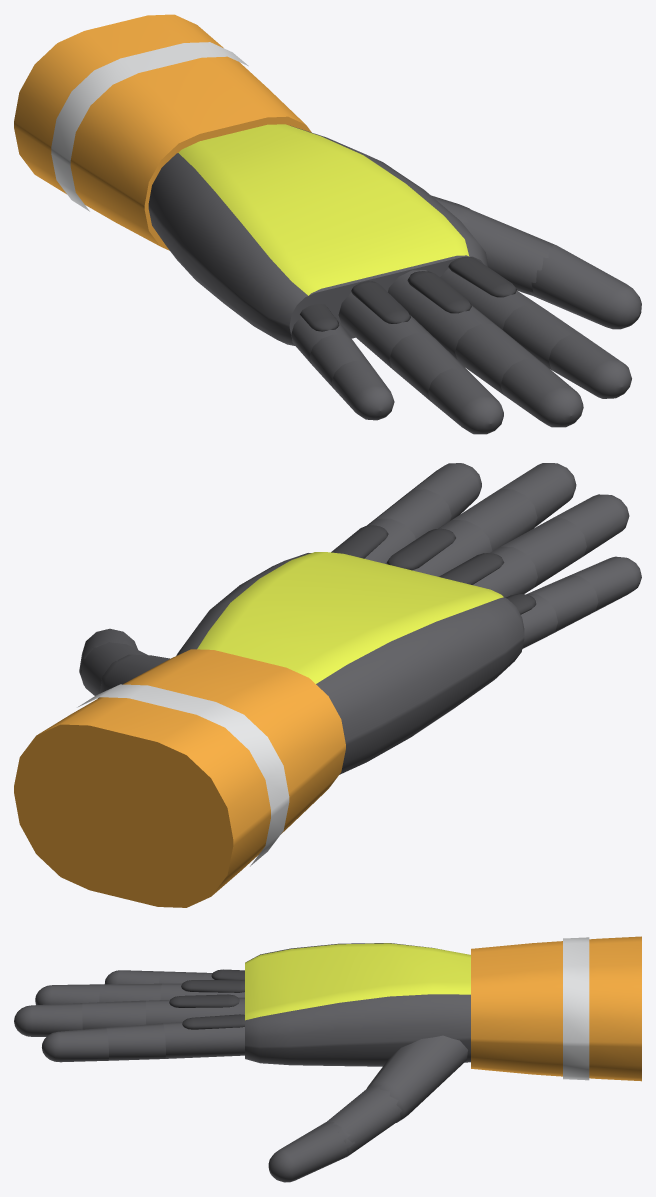
File: Hand_R.glb
The picture shows the model from 3 angles, top to bottom: view 1: azimuth 30°, elevation 25°; view 2: azimuth 150°, elevation 25°; view 3: azimuth 270°, elevation 25°; orthographic projection. The views are drawn at different scales.
Parts seen in each view (by area): view 1: Palm, Cuff, Thumb3, Middle1, Ring1, Thumb2, Middle3, Index3, Ring3, Index1, Middle2, Ring2 (+4 smaller); view 2: Cuff, Palm, Middle1, Ring1, Ring2, Middle2, Middle3, Ring3, Index1, Index2, Pinky2, Index3 (+5 smaller); view 3: Palm, Cuff, Thumb1, Index1, Thumb3, Thumb2, Middle1, Index3, Index2, Middle3, Middle2, Ring1 (+5 smaller).
Part boxes in pixels (x1=…): Palm: x1=148, y1=124, x2=487, y2=345; Cuff: x1=14, y1=14, x2=311, y2=250; Thumb3: x1=528, y1=244, x2=641, y2=329; Middle1: x1=388, y1=270, x2=500, y2=359; Ring1: x1=338, y1=281, x2=435, y2=368; Thumb2: x1=462, y1=208, x2=554, y2=296; Middle3: x1=500, y1=359, x2=583, y2=427; Index3: x1=548, y1=334, x2=631, y2=398; Ring3: x1=428, y1=368, x2=503, y2=434; Index1: x1=440, y1=257, x2=539, y2=329; Middle2: x1=455, y1=324, x2=543, y2=394; Ring2: x1=389, y1=333, x2=470, y2=401; Cuff: x1=14, y1=649, x2=345, y2=907; Palm: x1=176, y1=552, x2=524, y2=774; Middle1: x1=386, y1=520, x2=492, y2=576; Ring1: x1=439, y1=546, x2=537, y2=597; Ring2: x1=501, y1=518, x2=586, y2=586; Middle2: x1=452, y1=489, x2=537, y2=551; Middle3: x1=500, y1=463, x2=576, y2=527; Ring3: x1=553, y1=494, x2=629, y2=555; Index1: x1=331, y1=518, x2=415, y2=563; Index2: x1=368, y1=489, x2=451, y2=539; Pinky2: x1=528, y1=575, x2=598, y2=635; Index3: x1=406, y1=463, x2=481, y2=520; Palm: x1=245, y1=943, x2=470, y2=1066; Cuff: x1=471, y1=936, x2=641, y2=1081; Thumb1: x1=366, y1=1035, x2=467, y2=1122; Index1: x1=163, y1=1014, x2=244, y2=1058; Thumb3: x1=268, y1=1122, x2=355, y2=1182; Thumb2: x1=326, y1=1085, x2=402, y2=1156; Middle1: x1=146, y1=994, x2=244, y2=1024; Index3: x1=42, y1=1028, x2=108, y2=1062; Index2: x1=106, y1=1023, x2=165, y2=1060; Middle3: x1=14, y1=1003, x2=82, y2=1036; Middle2: x1=82, y1=1000, x2=146, y2=1029; Ring1: x1=160, y1=980, x2=244, y2=999.
Bounding box in the file's own units: 0.1526 × 0.0686 × 0.2863.
